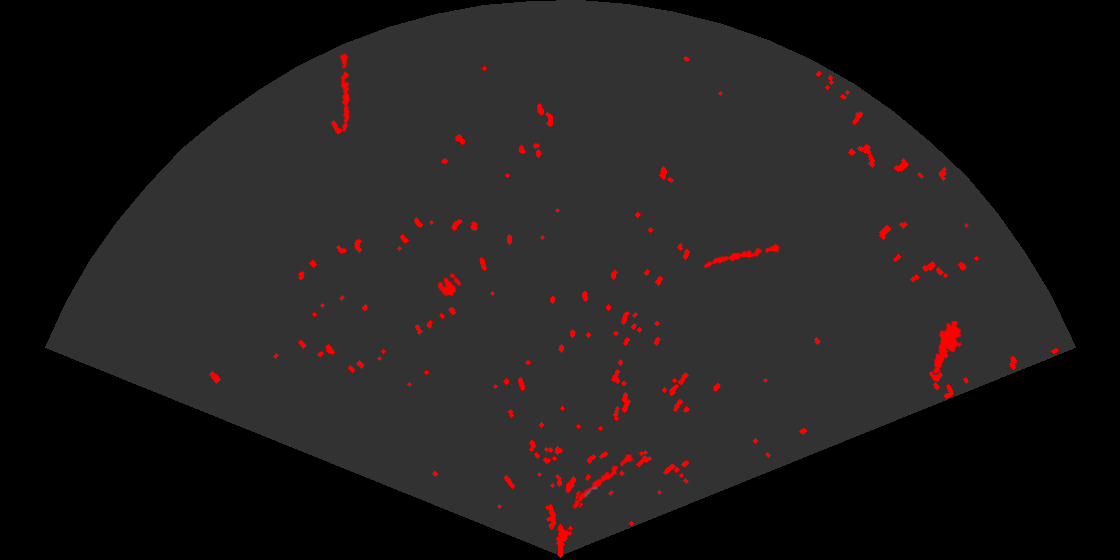ball: (436, 271, 463, 298)
chain: (571, 449, 637, 510), (701, 242, 782, 269), (338, 51, 352, 132)
frogman: (932, 321, 964, 375)
